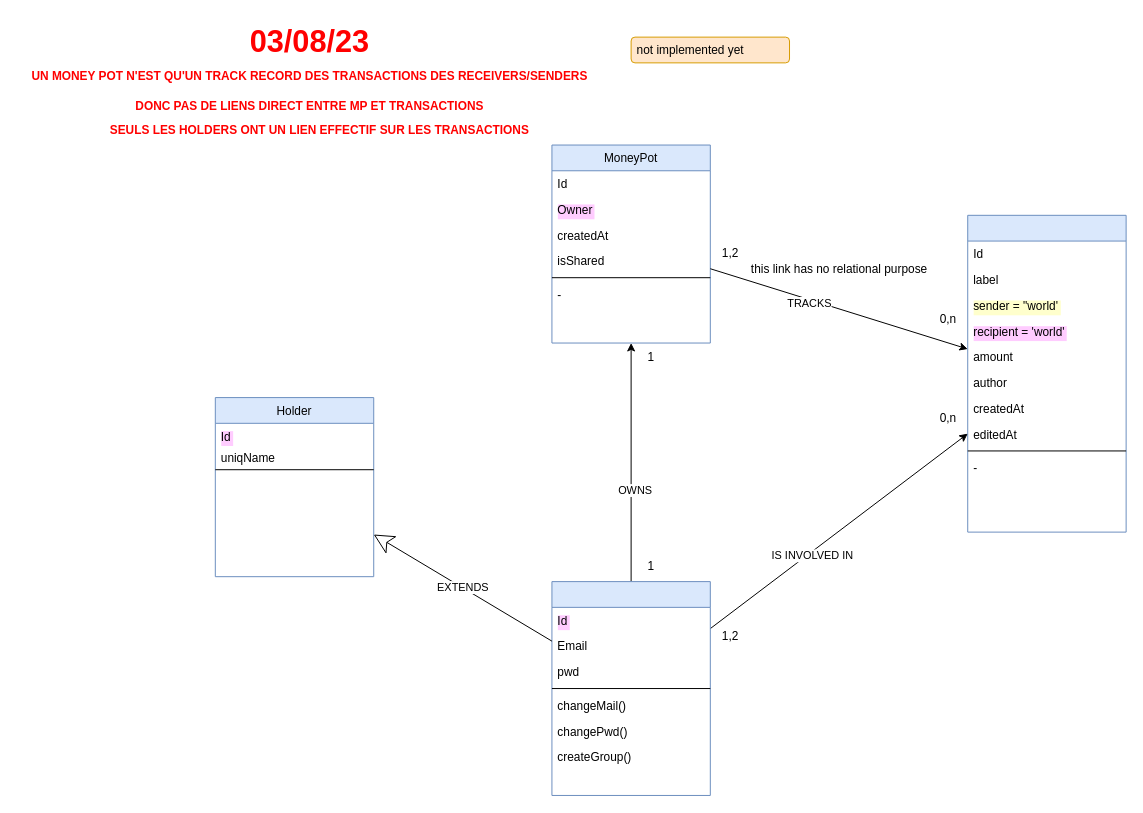
This 1143x813 diagram has some shape labels left out. Here are the shapes that lost their labels. From the top down, the box of each, then its label:
(967, 214, 1126, 532): Transaction
(551, 581, 710, 795): User
